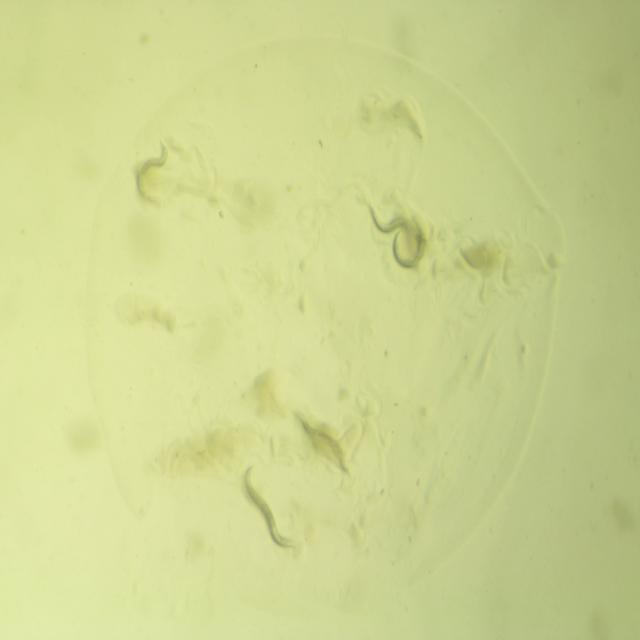worm: (235, 457, 303, 561), (284, 396, 356, 487), (120, 139, 180, 224), (363, 188, 439, 252), (380, 203, 434, 282)
